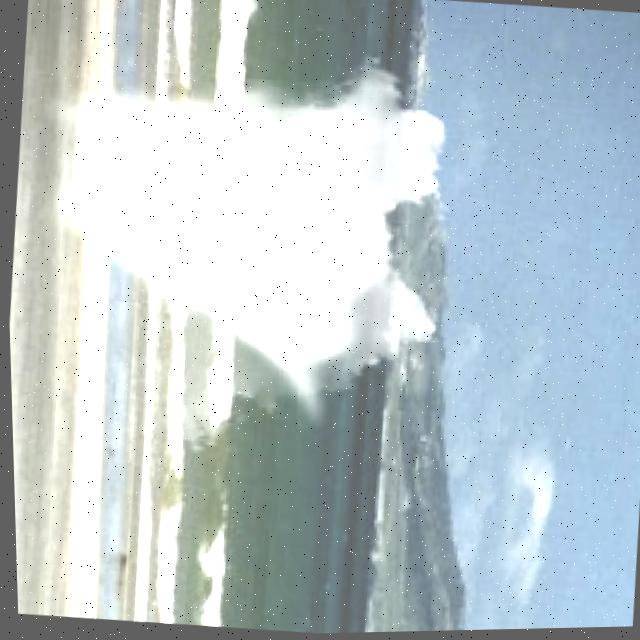Smoke: (20, 32, 461, 472)
